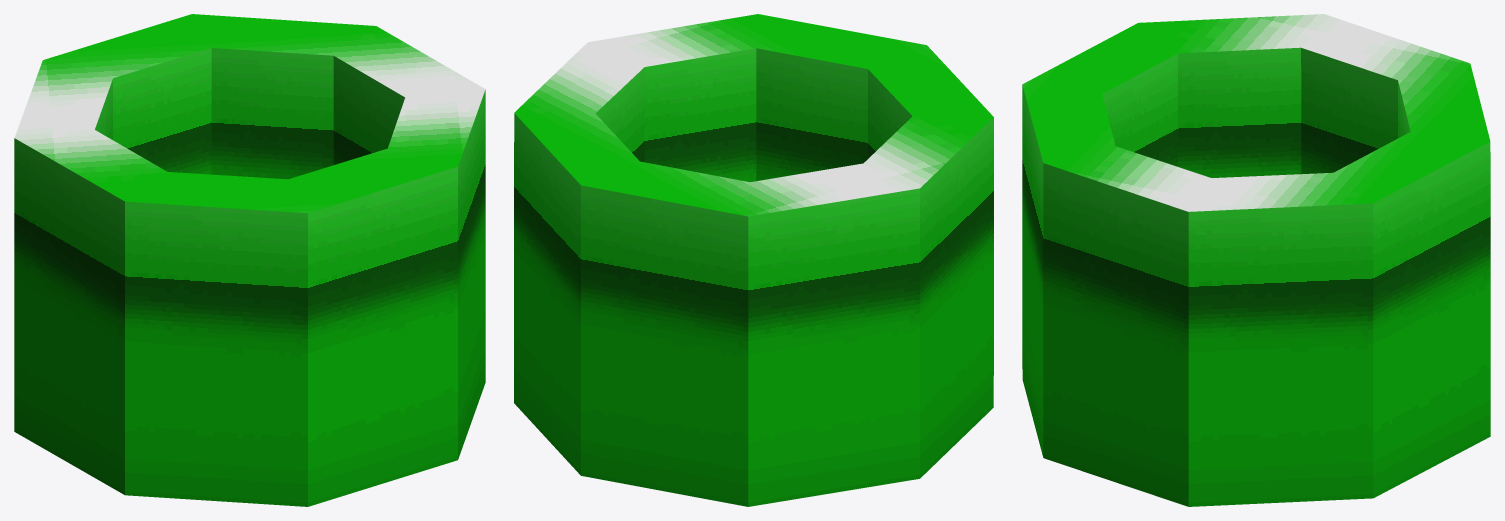
File: Pipe.obj
The picture shows the model from 3 angles, left to right: view 1: azimuth 30°, elevation 25°; view 2: azimuth 150°, elevation 25°; view 3: azimuth 270°, elevation 25°; orthographic projection.
Parts seen in each view (by area): view 1: Pipe_ShapeIndexedFaceSet.47_ShapeIndexedFaceSet, ShapeIndexedFaceSet.48_ShapeIndexedFaceSet; view 2: Pipe_ShapeIndexedFaceSet.47_ShapeIndexedFaceSet, ShapeIndexedFaceSet.48_ShapeIndexedFaceSet; view 3: Pipe_ShapeIndexedFaceSet.47_ShapeIndexedFaceSet, ShapeIndexedFaceSet.48_ShapeIndexedFaceSet.
Boxes of the visible parts, bbox=[...] form: Pipe_ShapeIndexedFaceSet.47_ShapeIndexedFaceSet: bbox=[14, 48, 485, 506]; ShapeIndexedFaceSet.48_ShapeIndexedFaceSet: bbox=[14, 14, 485, 213]; Pipe_ShapeIndexedFaceSet.47_ShapeIndexedFaceSet: bbox=[514, 48, 993, 506]; ShapeIndexedFaceSet.48_ShapeIndexedFaceSet: bbox=[514, 14, 993, 216]; Pipe_ShapeIndexedFaceSet.47_ShapeIndexedFaceSet: bbox=[1022, 47, 1490, 506]; ShapeIndexedFaceSet.48_ShapeIndexedFaceSet: bbox=[1022, 14, 1490, 211].
Size of the model in its own units: 0.2947 by 0.2051 by 0.2948.
Materials: 2 (2 with a texture image).
